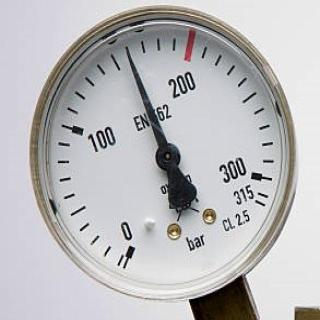gauge: (27, 1, 301, 311), (112, 228, 148, 270), (238, 186, 272, 216), (154, 141, 182, 171), (121, 43, 133, 57)
